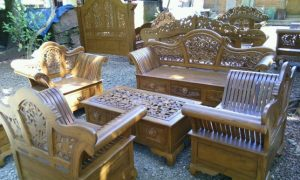Carving Chair: (184, 70, 294, 180), (132, 34, 269, 101)
